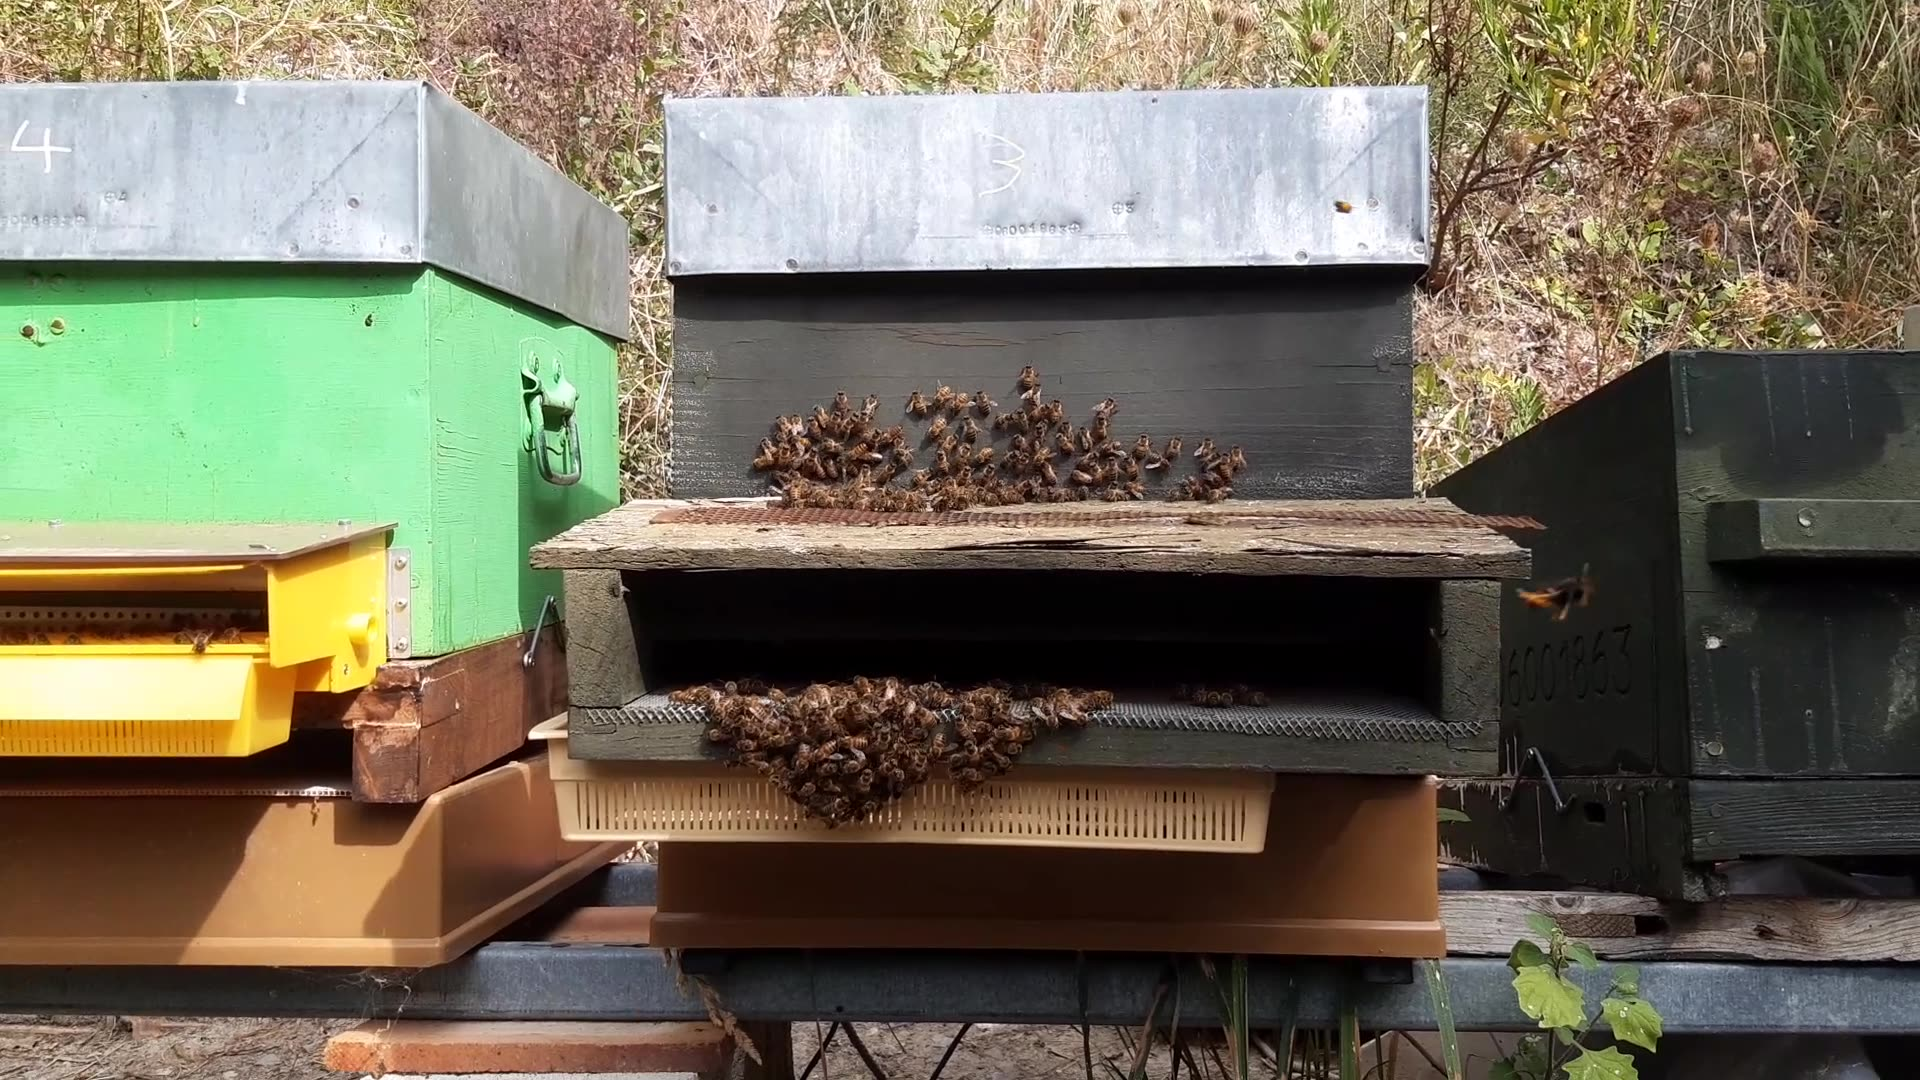bee: (676, 686, 783, 760), (1023, 684, 1118, 742), (944, 753, 1015, 824), (928, 454, 1004, 521), (818, 676, 918, 727), (1033, 443, 1106, 501), (746, 454, 833, 501), (835, 451, 910, 504), (1172, 443, 1246, 496), (804, 410, 880, 451), (934, 392, 996, 438), (1033, 404, 1084, 454)
